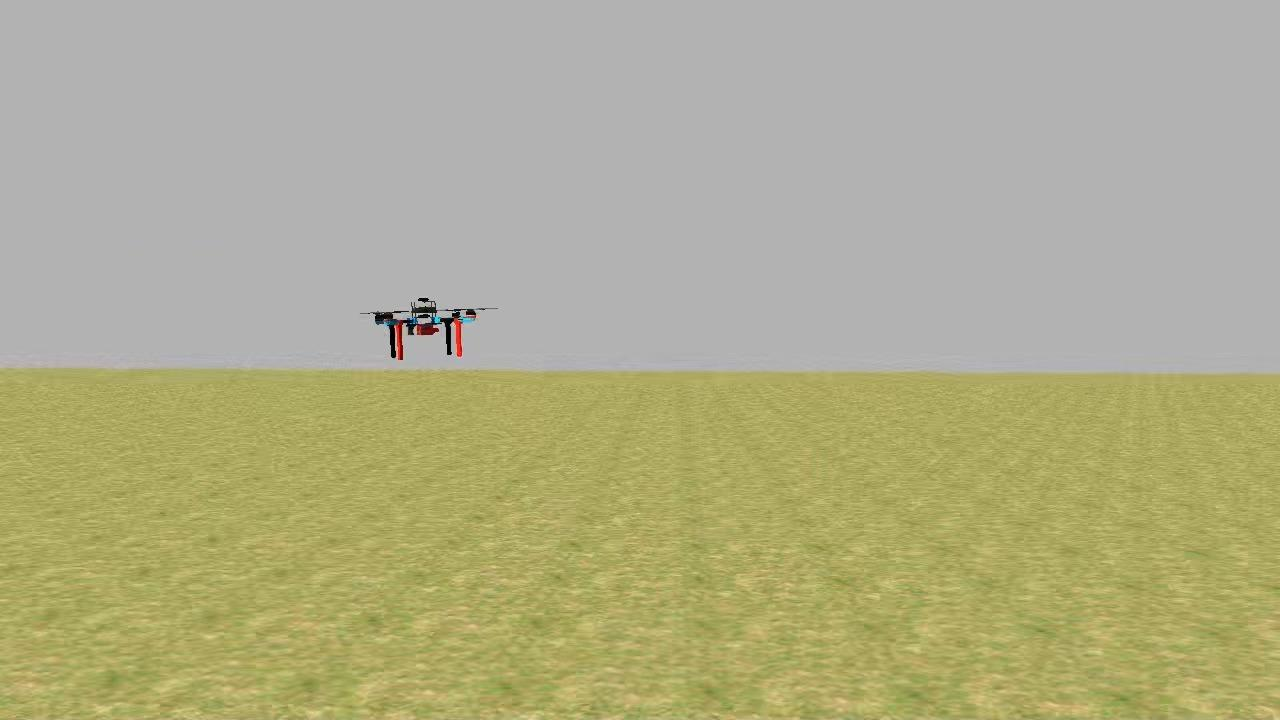UAV: (372, 290, 478, 370)
